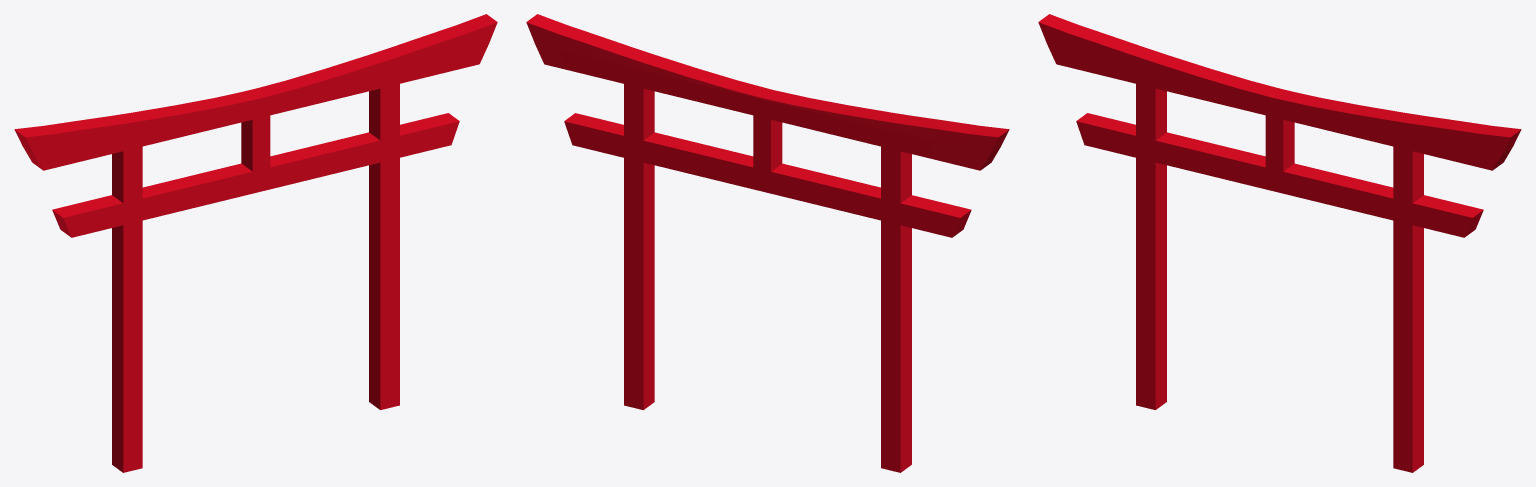
Rendered from Arch.glb.
3 views of the same model, side by side, from view 1: azimuth 30°, elevation 25°; view 2: azimuth 150°, elevation 25°; view 3: azimuth 330°, elevation 25° (orthographic).
Visible parts, largest first — view 1: Zen_Arch; view 2: Zen_Arch; view 3: Zen_Arch.
Part boxes in pixels (x1,y1,x2,y2): Zen_Arch: (14,14,497,472); Zen_Arch: (526,14,1009,472); Zen_Arch: (1038,14,1521,472).
Bounding box in the file's own units: 3.44 × 2.5 × 0.1425.
